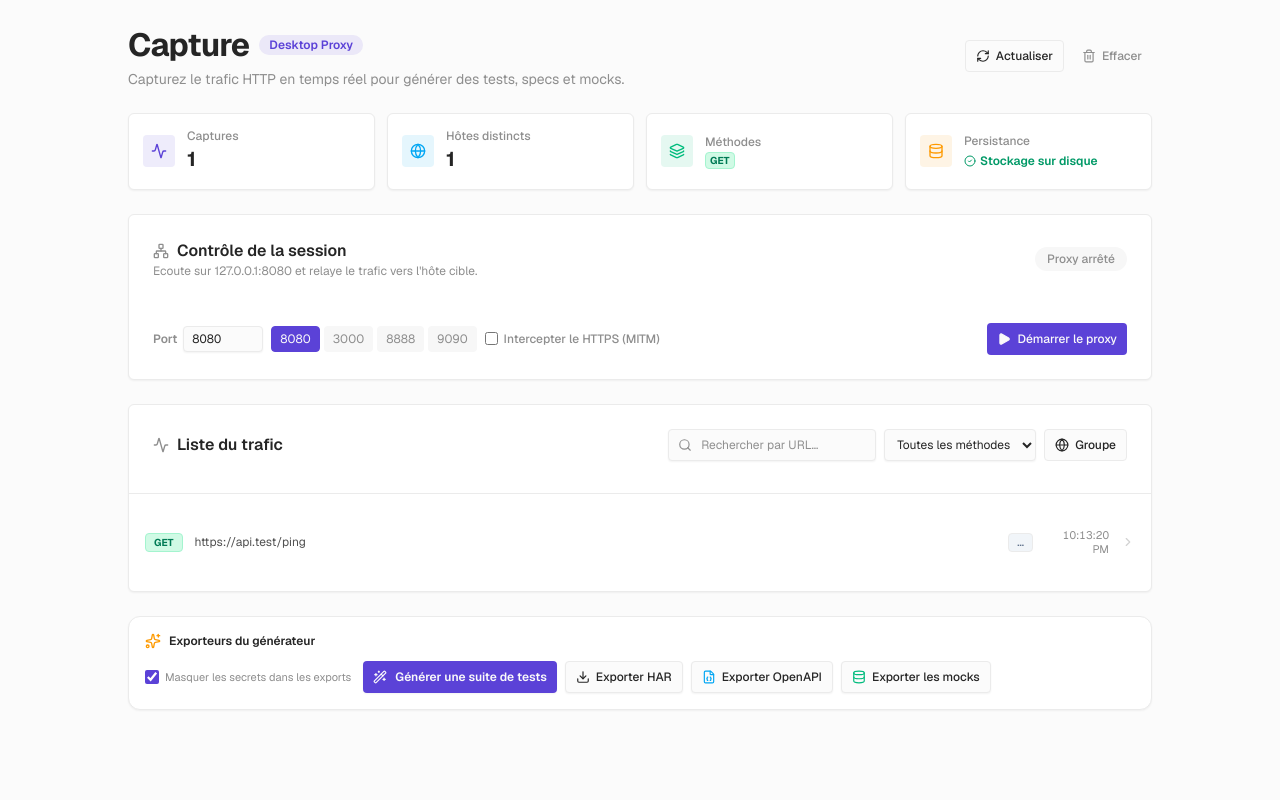
Page Capture (persistance + UI) › ouvre le détail au clic sur une ligne
What coordinates should you click on to do the following:
click the text "https://api.test/ping"
I would click on:
 (250, 542)
Its box is [195,534,306,550].
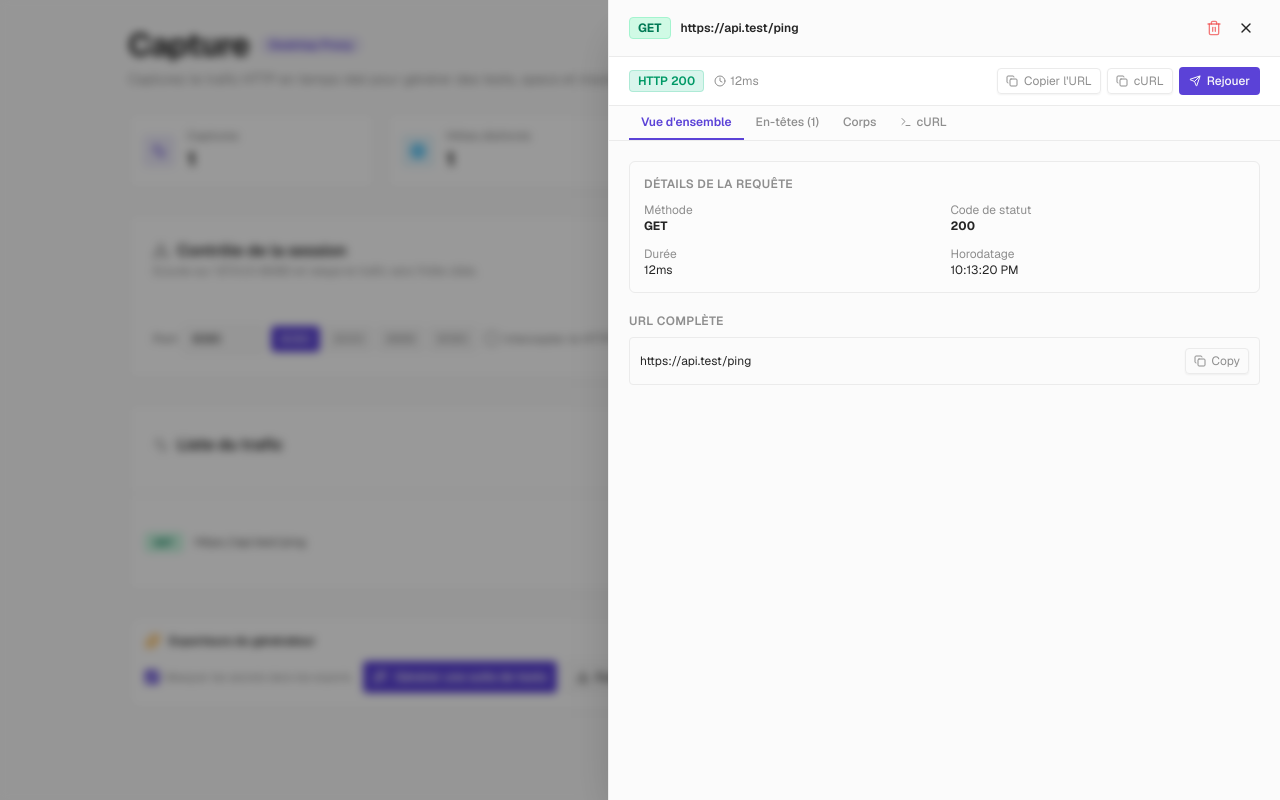
expect the text "HTTP 200" is shown: met, box [629,70,704,92]
